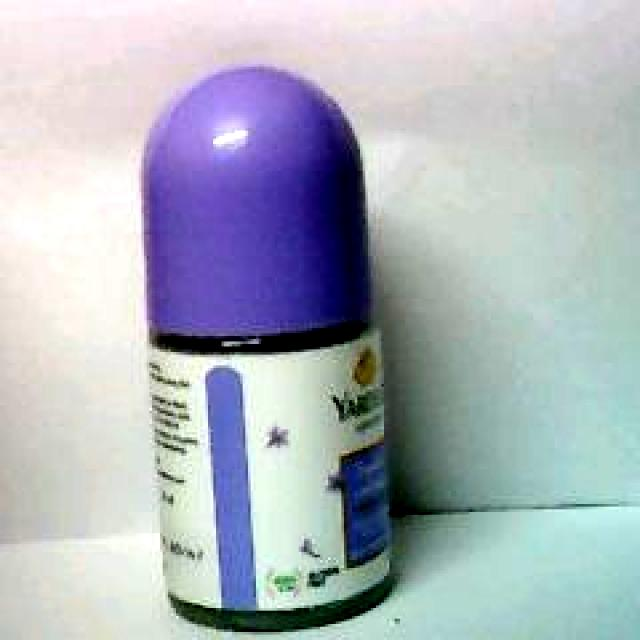yardley_rollon: (141, 67, 395, 635)
